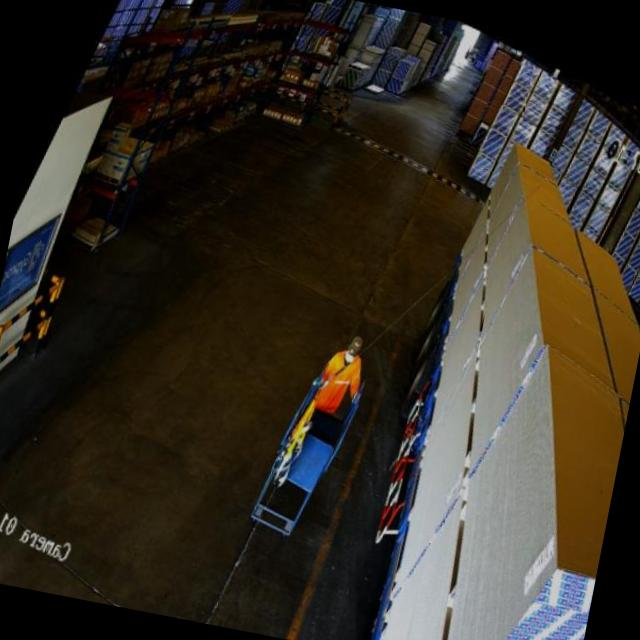person: (302, 323, 385, 428)
